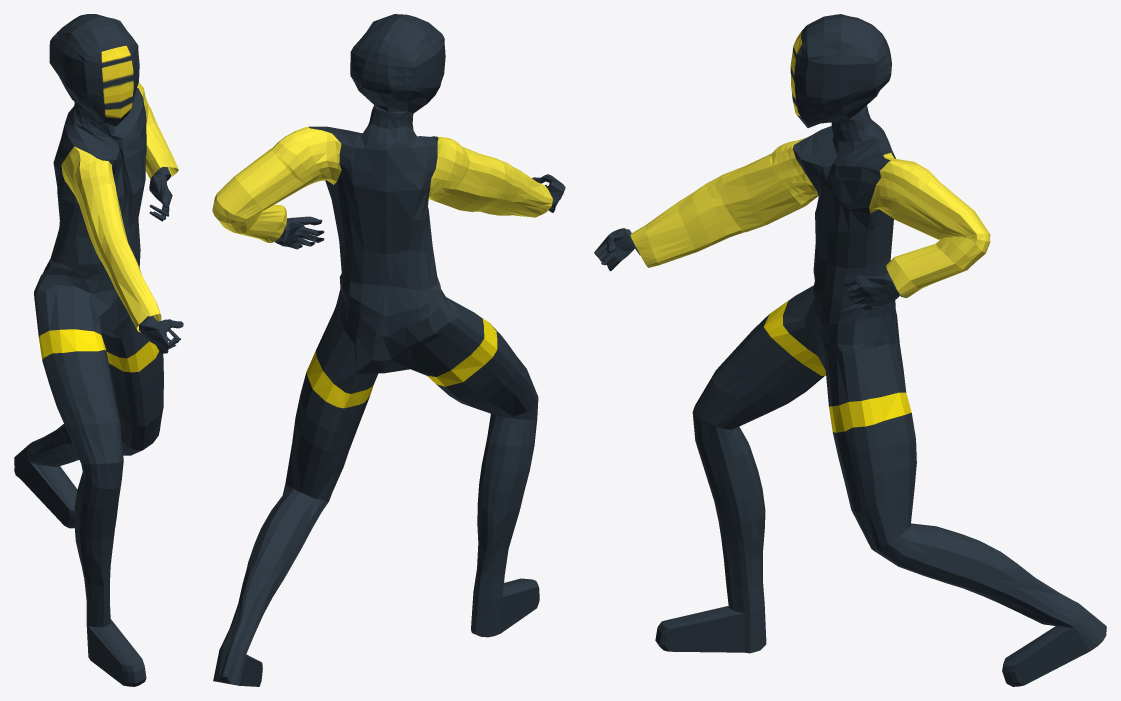
Rendered from Sentry_WR_000024.obj.
3 renders of one model, left to right at view 1: azimuth 30°, elevation 25°; view 2: azimuth 150°, elevation 25°; view 3: azimuth 270°, elevation 25°, orthographic. The views are drawn at different scales.
Parts seen in each view (by area): view 1: Cube; view 2: Cube; view 3: Cube.
Boxes of the visible parts, x1=… form: Cube: x1=14, y1=14, x2=183, y2=686; Cube: x1=212, y1=14, x2=565, y2=686; Cube: x1=594, y1=14, x2=1106, y2=686.
Size of the model in its own units: 1.18 by 3.6 by 2.57.
